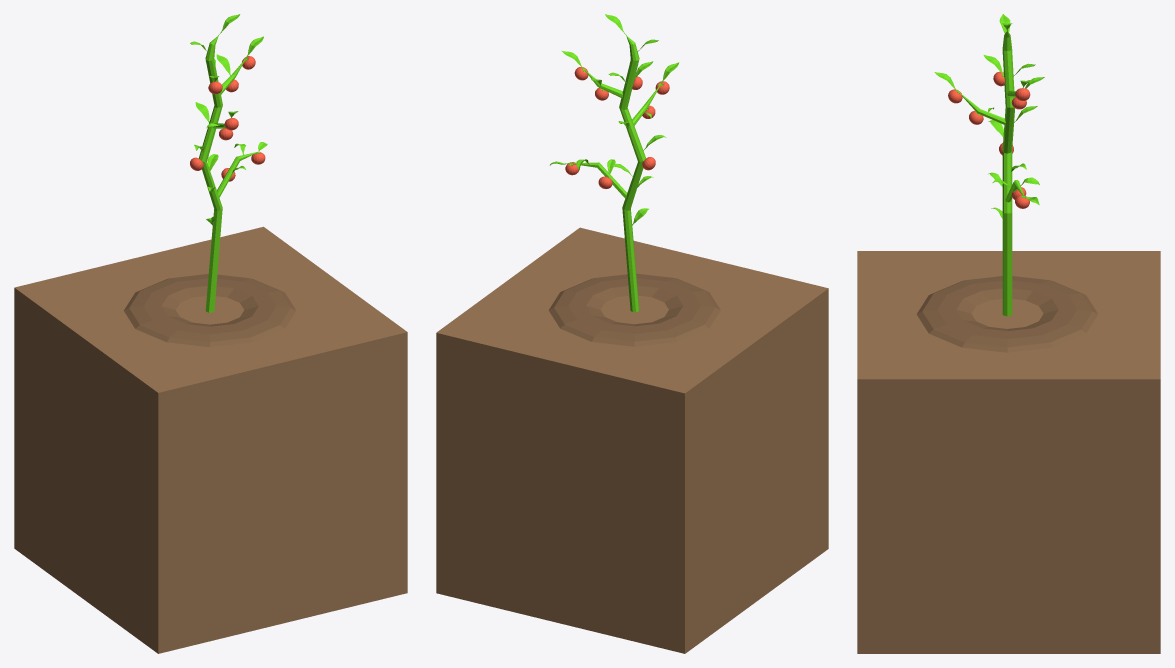
Rendered from DirtBox_Tomato_Phase_3.fbx.
The picture shows the model from 3 angles, left to right: view 1: azimuth 30°, elevation 25°; view 2: azimuth 150°, elevation 25°; view 3: azimuth 270°, elevation 25°; orthographic projection. The views are drawn at different scales.
Parts seen in each view (by area): view 1: Cube, Sown, Plant; view 2: Cube, Sown, Plant; view 3: Cube, Sown, Plant.
Boxes of the visible parts, x1=… form: Cube: x1=14, y1=226, x2=407, y2=653; Sown: x1=124, y1=274, x2=296, y2=347; Plant: x1=190, y1=14, x2=267, y2=312; Cube: x1=436, y1=227, x2=828, y2=653; Sown: x1=548, y1=273, x2=720, y2=346; Plant: x1=549, y1=14, x2=679, y2=312; Cube: x1=857, y1=251, x2=1160, y2=653; Sown: x1=916, y1=276, x2=1098, y2=352; Plant: x1=934, y1=14, x2=1044, y2=316.
Bounding box in the file's own units: 1 × 2.11 × 1.
